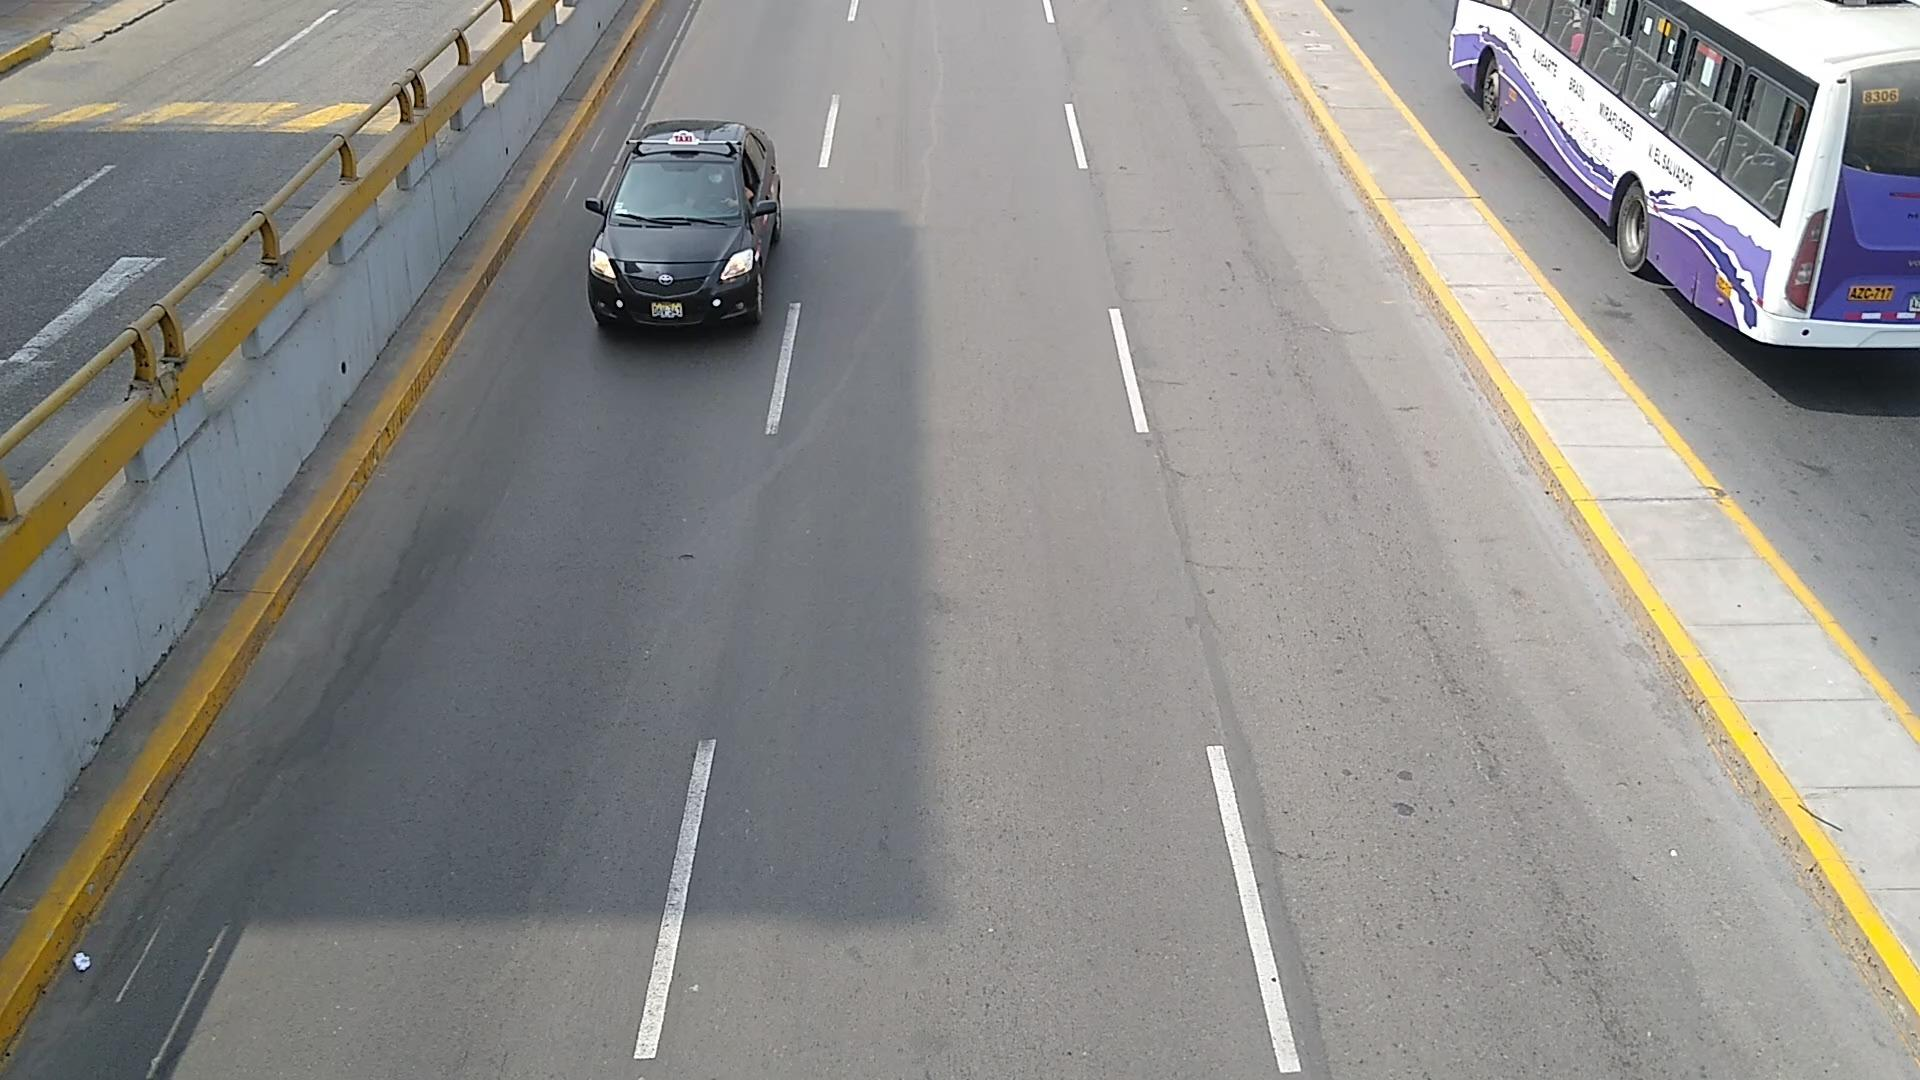bus: (1448, 0, 1920, 348)
car: (585, 120, 781, 330)
